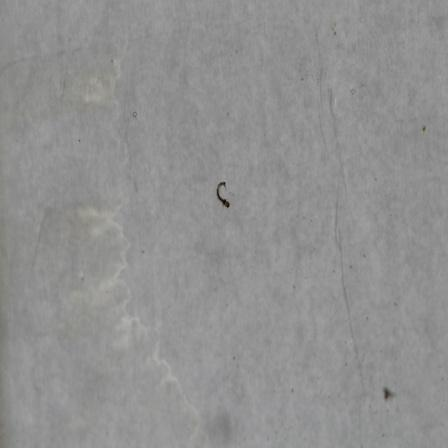Jentik-Nyamuk: (212, 177, 232, 211)
